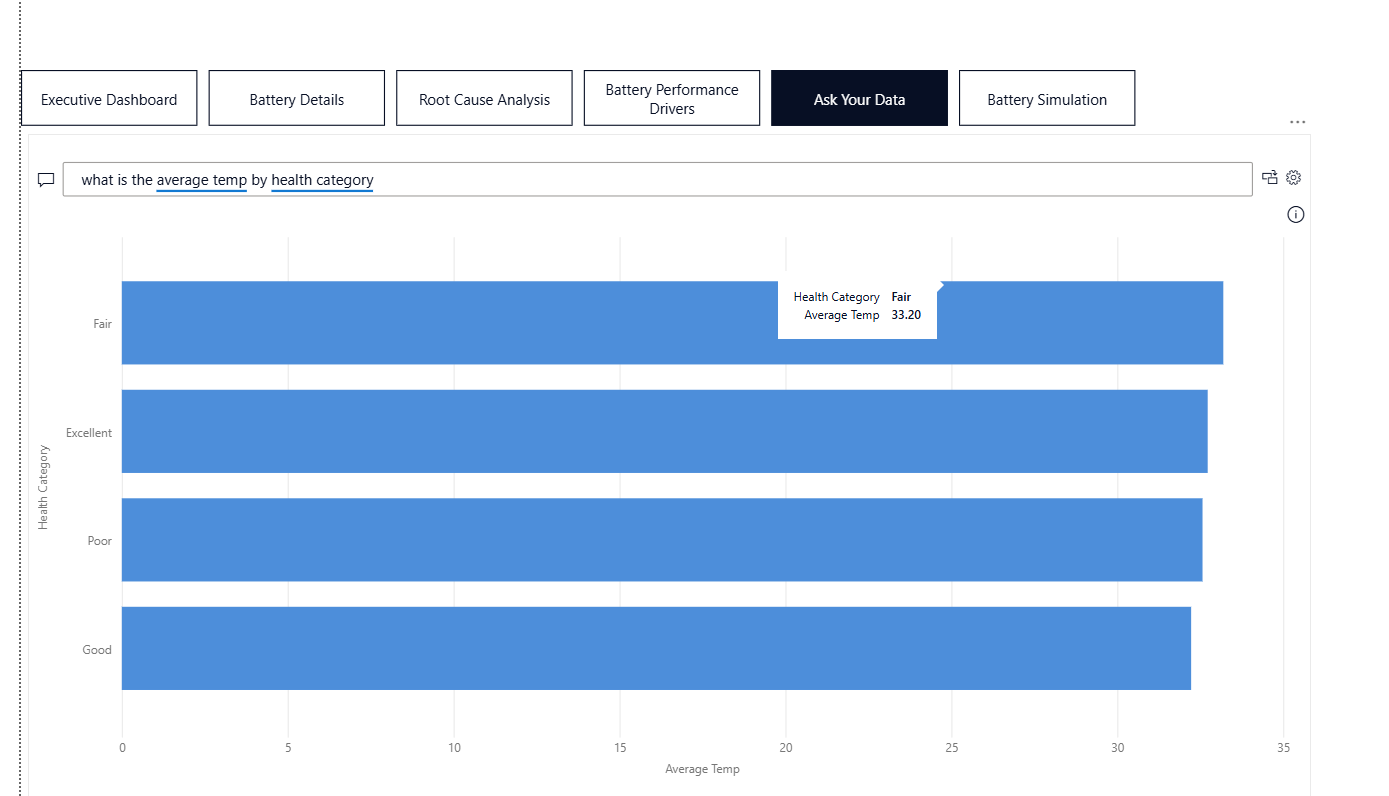

Layout of this report page (visuals, bound fields, positions):
{"tool":"powerbi","page":{"name":"Ask Your Data","canvas":[1280,720],"ordinal":5},"visuals":[{"type":"qnaVisual","box":[6.3,126.3,1149,593.7],"z":0},{"type":"pageNavigator","box":[0,69,1000.3,50.1],"z":1000}]}

Visuals, with their boxes on the page's 1280x720 design canvas (x1, y1, x2, y2). These are canvas units, not pixel positions in the 1389x796 screenshot, which may show the page scaled, cropped or inside an application window:
qnaVisual: region(6, 126, 1155, 720)
pageNavigator: region(0, 69, 1000, 119)
